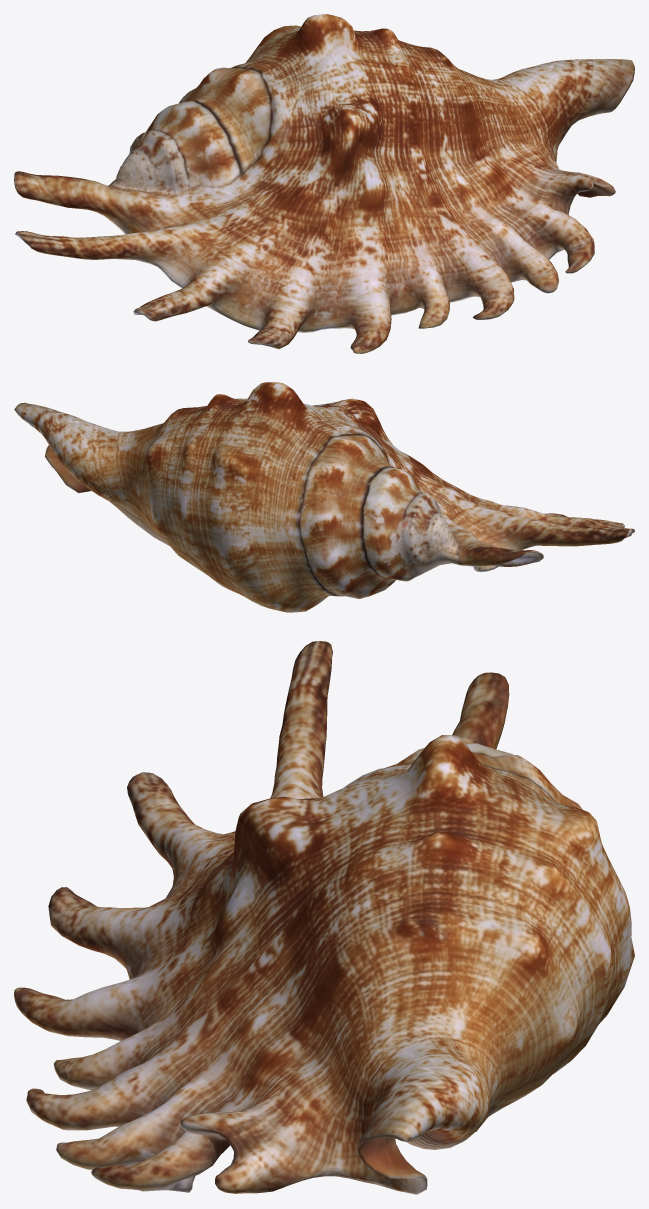
File: lambis_shell.glb
3 renders of one model, top to bottom at view 1: azimuth 30°, elevation 25°; view 2: azimuth 150°, elevation 25°; view 3: azimuth 270°, elevation 25°, orthographic. The views are drawn at different scales.
Visible parts, largest first — view 1: lambis_shell; view 2: lambis_shell; view 3: lambis_shell.
Part boxes in pixels (x1,y1,x2,y2): lambis_shell: (14,14,634,353); lambis_shell: (14,382,634,612); lambis_shell: (14,641,634,1194).
Bounding box in the file's own units: 0.1395 × 0.0468 × 0.0745.
1 material, 1 textured.
